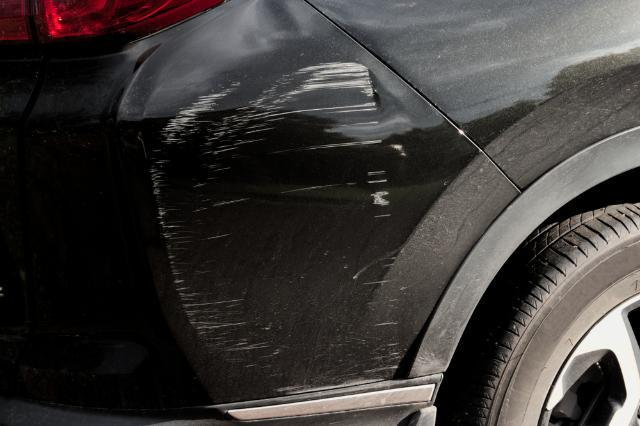dent: (229, 0, 297, 52)
scratch: (150, 54, 401, 400)
